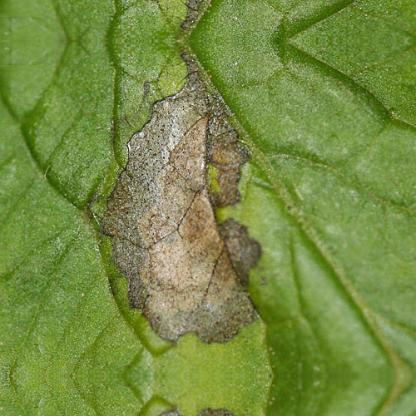Late-Blight: (66, 48, 322, 372)
